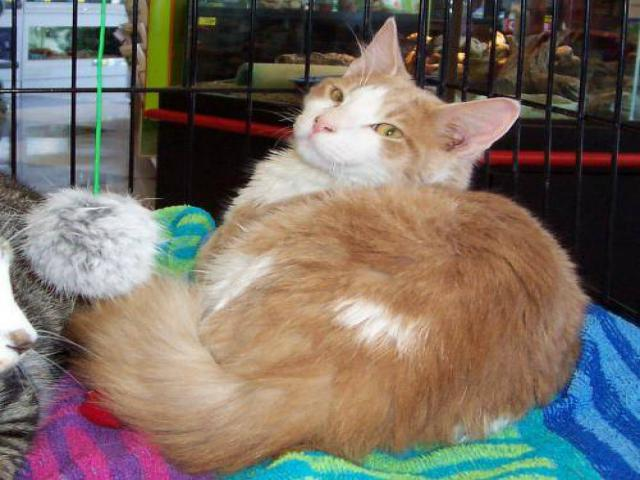cat: (55, 13, 576, 456)
